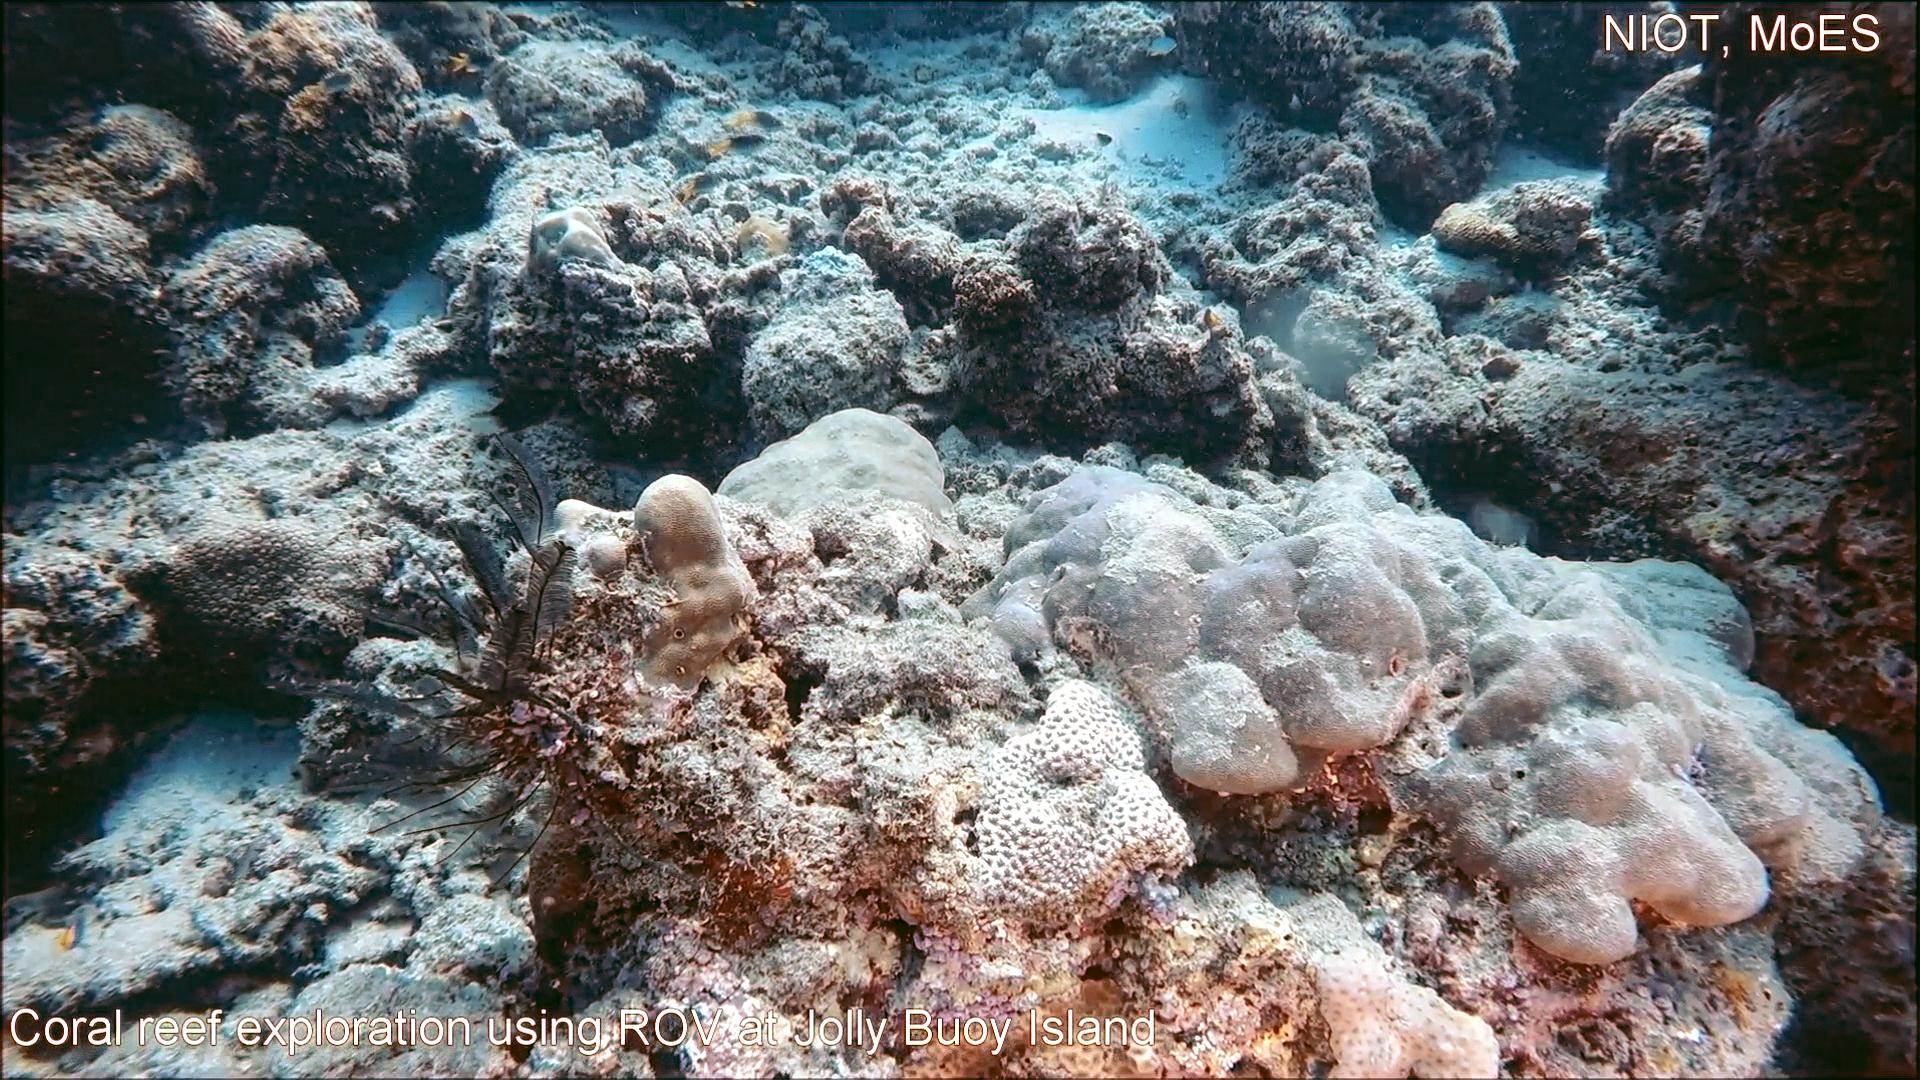Feather star-Crinoid star: (251, 425, 611, 913)
Goniastrea-Goniastrea pectinata: (968, 670, 1203, 940)
Porites-Porites pukoensis: (1294, 463, 1895, 972)
Turbinaria-Turbinaria stellulata: (152, 513, 398, 671)
